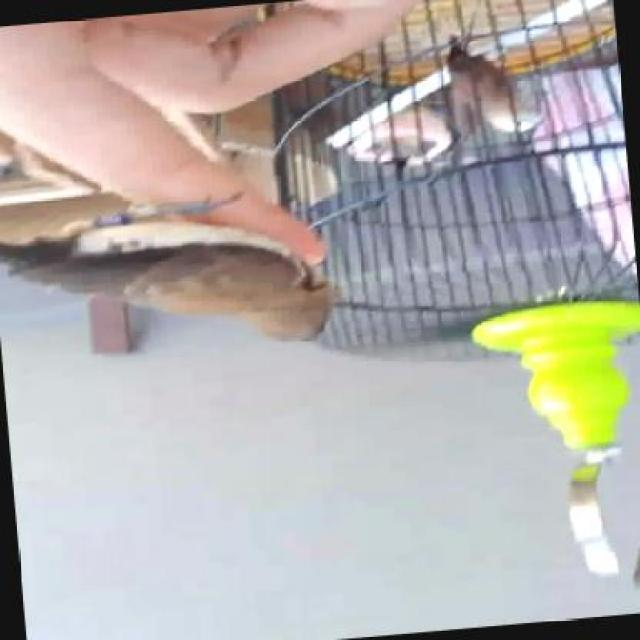Bird: (1, 206, 351, 399), (435, 32, 547, 155)
